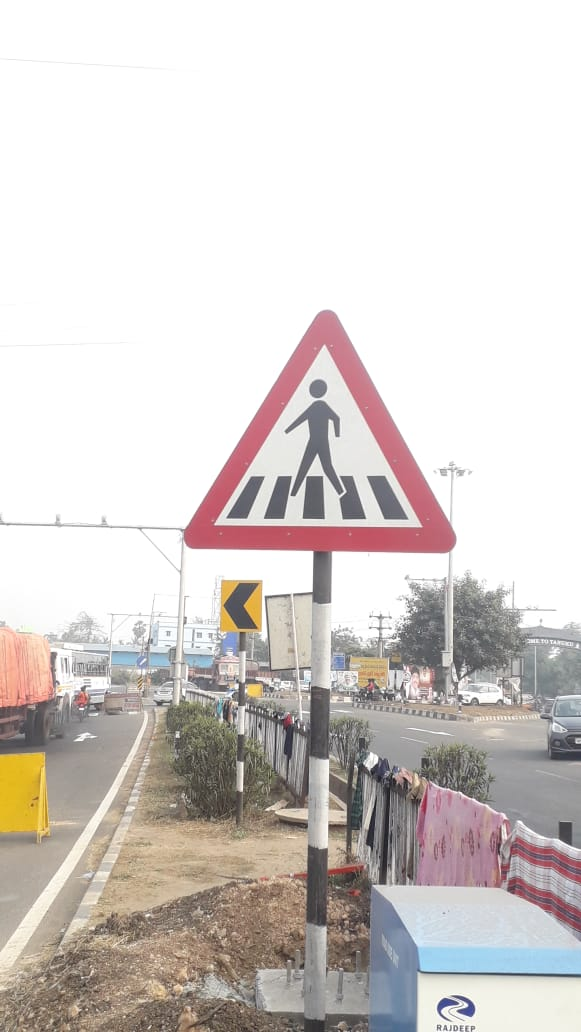pedestrian crossing: (158, 286, 500, 577)
